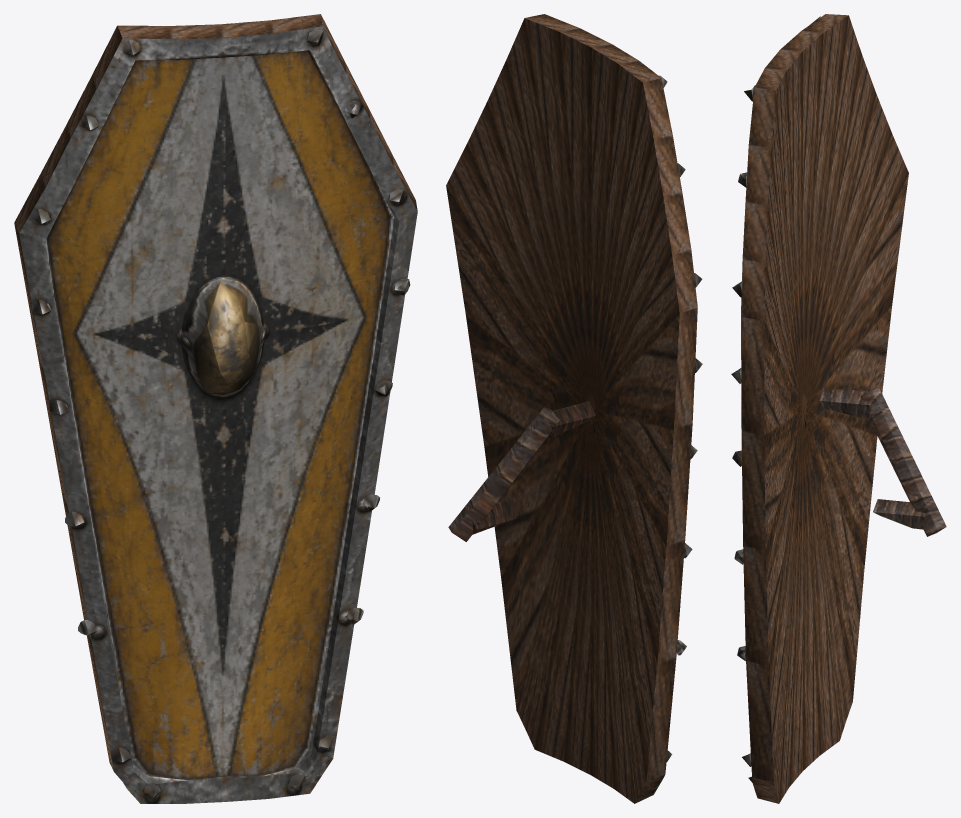
Rendered from mm6_figc_shield.glb.
3 views of the same model, side by side, from view 1: azimuth 30°, elevation 25°; view 2: azimuth 150°, elevation 25°; view 3: azimuth 270°, elevation 25° (orthographic). The views are drawn at different scales.
Visible parts, largest first — view 1: Shield; view 2: Shield; view 3: Shield.
Part boxes in pixels (x1,y1,x2,y2): Shield: [14, 14, 417, 803]; Shield: [446, 14, 702, 803]; Shield: [731, 14, 946, 803].
Size of the model in its own units: 0.3457 by 0.767 by 0.2083.
Materials: 1 (1 with a texture image).
